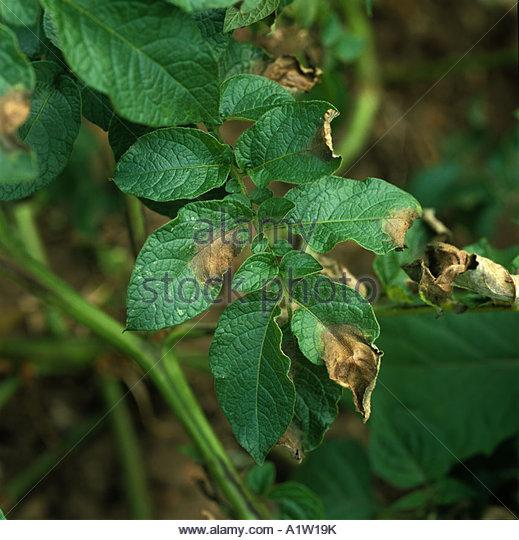Potato leaf: (119, 196, 253, 329), (292, 279, 382, 429), (259, 317, 342, 464), (286, 174, 416, 264), (234, 102, 341, 184), (217, 56, 324, 112)
